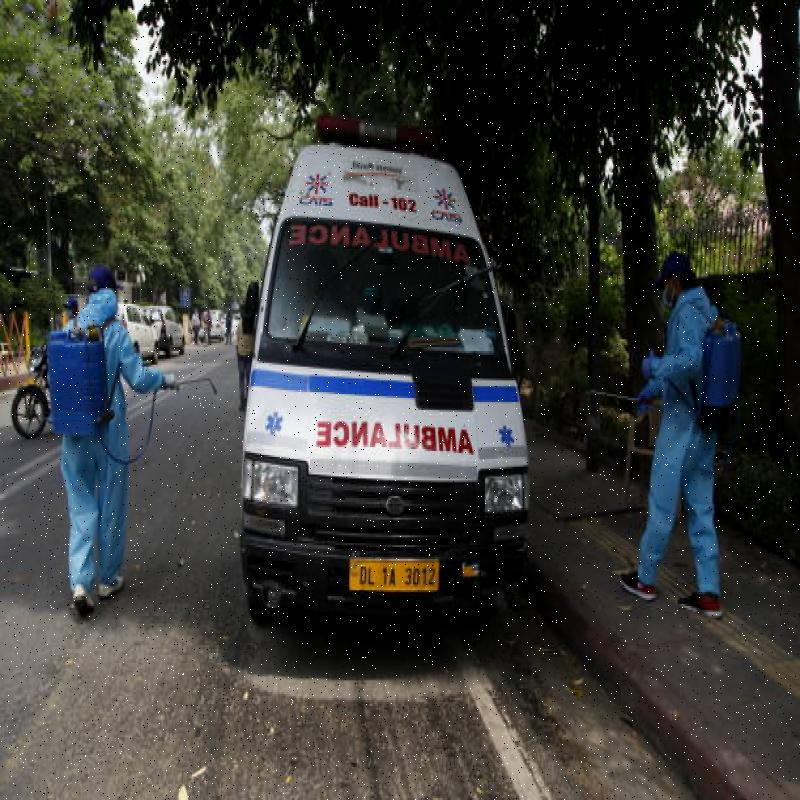ambulance: (232, 102, 538, 644)
